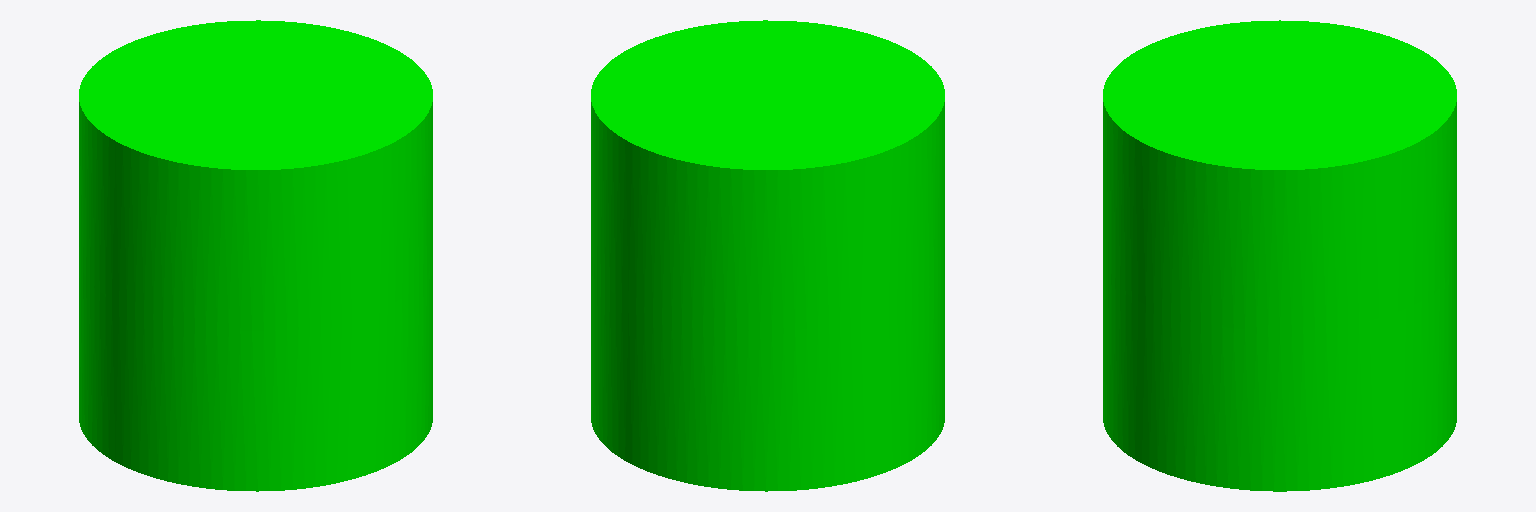
URDF robot description (Cylinder_v6_60_60):
<robot name="Cylinder_v6_60_60">
	<link name="object">
		<visual>
			<origin xyz="9.15467079367877e-18 1.3732006190518158e-17 -0.6" rpy="0.0 0.0 0.0" />
			<geometry>
				<mesh filename="Cylinder_v6_60_60/Cylinder_v6_60_60.obj" scale="0.02 0.02 0.02" />
			</geometry>
			<material name="texture">
				<color rgba="0.0 1.0 0.0 1.0" />
			</material>
		</visual>
		<collision>
			<origin xyz="9.15467079367877e-18 1.3732006190518158e-17 -0.6" rpy="0.0 0.0 0.0" />
			<geometry>
				<mesh filename="Cylinder_v6_60_60/Cylinder_v6_60_60_vhacd.obj" scale="0.02 0.02 0.02" />
			</geometry>
		</collision>
		<inertial>
			<mass value="0.020" />
			<inertia ixx="1.0" ixy="0.0" ixz="0.0" iyy="1.0" iyz="0.0" izz="1.0" />
		</inertial>
	</link>
</robot>

--- Render facts (derived) ---
3 views of the same robot in one strip: view 1: azimuth 30°, elevation 25°; view 2: azimuth 150°, elevation 25°; view 3: azimuth 270°, elevation 25° (orthographic).
Robot: Cylinder_v6_60_60 — 1 links, 0 joints (none); root link object; default pose: every joint at zero.
Visible links, largest first — view 1: object; view 2: object; view 3: object.
Link boxes in pixels (x1=…): object: x1=79, y1=20, x2=432, y2=491; object: x1=591, y1=20, x2=944, y2=491; object: x1=1103, y1=20, x2=1456, y2=491.
Bounding box of the posed robot: 1.2 × 1.2 × 1.2 m (x, y, z).
1 mesh visuals loaded from 1 distinct referenced files (1 OBJ).